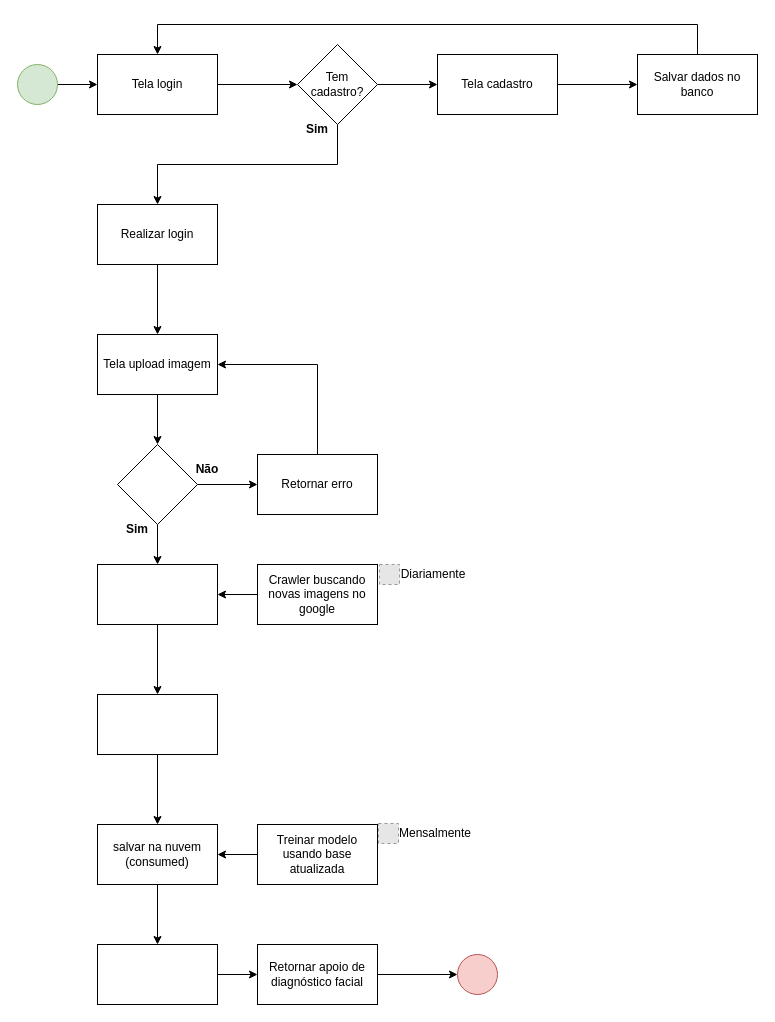
Image size: 775x1022. Some labels were removed from this diagram. Grey dashed boxes stand in for pictures. Each missing label, with the box of its shape:
Classificar padrões da imagem utilizando nosso modelo: (96, 944, 218, 1004)
Imagem é valida?: (116, 444, 198, 524)
Salvar imagem na nuvem (raw): (96, 564, 218, 624)
Tratar imagem (lambda): (96, 694, 218, 754)
Ínicio: (16, 64, 58, 104)
